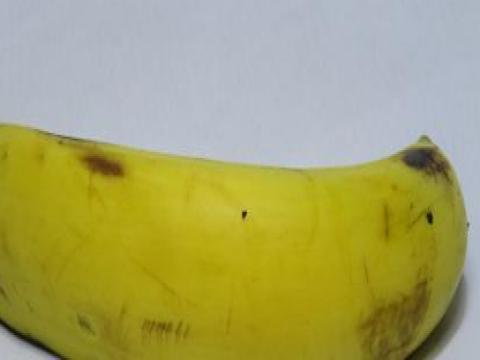freshripe: (0, 97, 479, 359)
